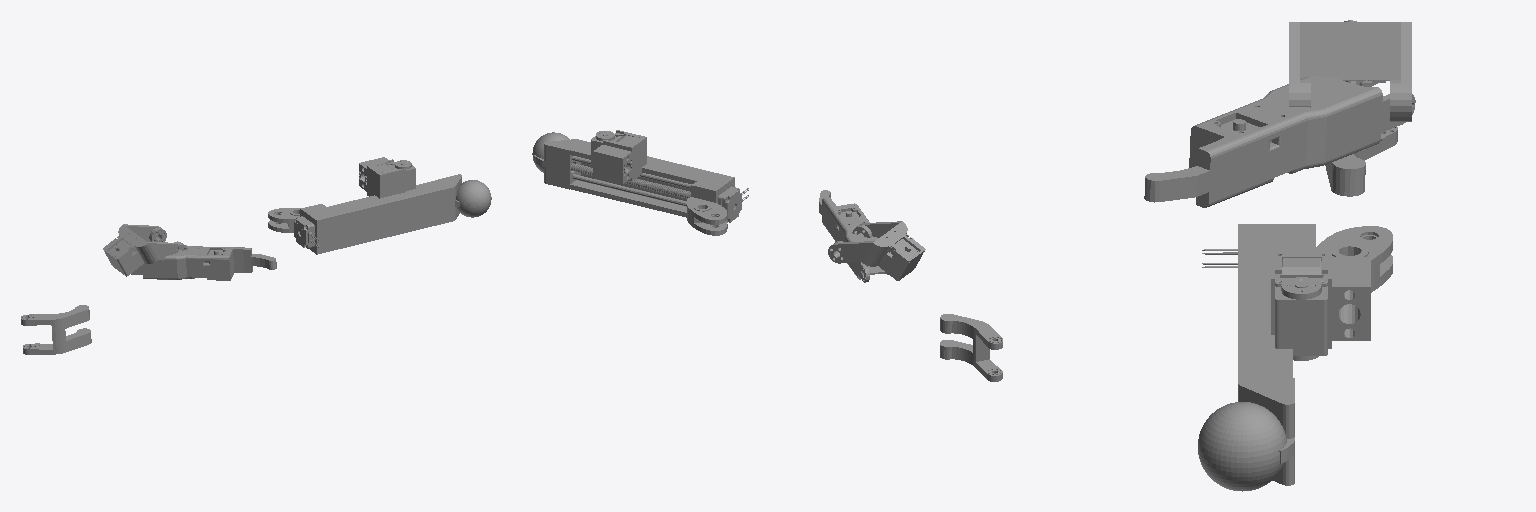
robot.urdf — leg_manipulator:
<?xml version="1.0" encoding="utf-8"?>
<!-- This URDF was automatically created by SolidWorks to URDF Exporter! Originally created by Stephen Brawner (brawner@gmail.com) 
     Commit Version: 1.6.0-4-g7f85cfe  Build Version: 1.6.7995.38578
     For more information, please see http://wiki.ros.org/sw_urdf_exporter -->
<robot
  name="leg_manipulator">
  <link
    name="base_link">
    <inertial>
      <origin
        xyz="-0.102101858263051 -1.23372200670387E-05 0.0495364959218269"
        rpy="0 0 0" />
      <mass
        value="0.228916745240302" />
      <inertia
        ixx="7.32933157890681E-05"
        ixy="-1.48577654516967E-07"
        ixz="7.21766471076414E-05"
        iyy="0.00061322332790674"
        iyz="2.15302205976865E-08"
        izz="0.000602631444620784" />
    </inertial>
    <visual>
      <origin
        xyz="0 0 0"
        rpy="0 0 0" />
      <geometry>
        <mesh
          filename="package://leg_manipulator/meshes/base_link.STL" />
      </geometry>
      <material
        name="">
        <color
          rgba="0.627450980392157 0.627450980392157 0.627450980392157 1" />
      </material>
    </visual>
    <collision>
      <origin
        xyz="0 0 0"
        rpy="0 0 0" />
      <geometry>
        <mesh
          filename="package://leg_manipulator/meshes/base_link.STL" />
      </geometry>
    </collision>
  </link>
  <link
    name="link1">
    <inertial>
      <origin
        xyz="-0.128815170246768 6.16693158052885E-05 0.0174844738870931"
        rpy="0 0 0" />
      <mass
        value="0.0589546671844344" />
      <inertia
        ixx="1.17826464867624E-05"
        ixy="1.13571487128267E-07"
        ixz="-7.96530718981461E-07"
        iyy="1.49514869427638E-05"
        iyz="-3.89603257061317E-08"
        izz="1.35226508650578E-05" />
    </inertial>
    <visual>
      <origin
        xyz="0 0 0"
        rpy="0 0 0" />
      <geometry>
        <mesh
          filename="package://leg_manipulator/meshes/link1.STL" />
      </geometry>
      <material
        name="">
        <color
          rgba="0.627450980392157 0.627450980392157 0.627450980392157 1" />
      </material>
    </visual>
    <collision>
      <origin
        xyz="0 0 0"
        rpy="0 0 0" />
      <geometry>
        <mesh
          filename="package://leg_manipulator/meshes/link1.STL" />
      </geometry>
    </collision>
  </link>
  <joint
    name="joint1"
    type="prismatic">
    <origin
      xyz="-0.022741 -5E-05 0.032"
      rpy="3.1416 0 0" />
    <parent
      link="base_link" />
    <child
      link="link1" />
    <axis
      xyz="-1 0 0" />
    <limit
      lower="0"
      upper="0.6"
      effort="100"
      velocity="1" />
  </joint>
  <link
    name="link2">
    <inertial>
      <origin
        xyz="-0.0412400600572213 0.0290000049963766 -0.00237297655194358"
        rpy="0 0 0" />
      <mass
        value="0.0492722298663148" />
      <inertia
        ixx="1.6171917803228E-05"
        ixy="-1.43810043193834E-13"
        ixz="-2.73606234561682E-07"
        iyy="1.49982082029405E-05"
        iyz="1.18466833635428E-13"
        izz="2.51424133329096E-05" />
    </inertial>
    <visual>
      <origin
        xyz="0 0 0"
        rpy="0 0 0" />
      <geometry>
        <mesh
          filename="package://leg_manipulator/meshes/link2.STL" />
      </geometry>
      <material
        name="">
        <color
          rgba="0.627450980392157 0.627450980392157 0.627450980392157 1" />
      </material>
    </visual>
    <collision>
      <origin
        xyz="0 0 0"
        rpy="0 0 0" />
      <geometry>
        <mesh
          filename="package://leg_manipulator/meshes/link2.STL" />
      </geometry>
    </collision>
  </link>
  <joint
    name="joint2"
    type="revolute">
    <origin
      xyz="-0.145982705510586 -0.0292000000000024 0.0227"
      rpy="0 0 0" />
    <parent
      link="link1" />
    <child
      link="link2" />
    <axis
      xyz="0 -1 0" />
    <limit
      lower="-3.14"
      upper="3.14"
      effort="100"
      velocity="1" />
  </joint>
  <link
    name="link3">
    <inertial>
      <origin
        xyz="-0.0875706443775528 0.0012980092080234 0.0260546304711824"
        rpy="0 0 0" />
      <mass
        value="0.111402715752738" />
      <inertia
        ixx="4.56339135238866E-05"
        ixy="1.77867913646447E-06"
        ixz="5.58509130634157E-05"
        iyy="0.000168660813444487"
        iyz="-8.191426226183E-07"
        izz="0.000137997912896648" />
    </inertial>
    <visual>
      <origin
        xyz="0 0 0"
        rpy="0 0 0" />
      <geometry>
        <mesh
          filename="package://leg_manipulator/meshes/link3.STL" />
      </geometry>
      <material
        name="">
        <color
          rgba="0.627450980392157 0.627450980392157 0.627450980392157 1" />
      </material>
    </visual>
    <collision>
      <origin
        xyz="0 0 0"
        rpy="0 0 0" />
      <geometry>
        <mesh
          filename="package://leg_manipulator/meshes/link3.STL" />
      </geometry>
    </collision>
  </link>
  <joint
    name="joint3"
    type="revolute">
    <origin
      xyz="-0.050675 0.029 0.017145"
      rpy="0 0 0" />
    <parent
      link="link2" />
    <child
      link="link3" />
    <axis
      xyz="0.46021 0 0.88781" />
    <limit
      lower="-3.14"
      upper="3.14"
      effort="100"
      velocity="1" />
  </joint>
  <link
    name="link4">
    <inertial>
      <origin
        xyz="-0.0320231399899398 0.0188395340678356 0.0196130289979088"
        rpy="0 0 0" />
      <mass
        value="0.0268787641612815" />
      <inertia
        ixx="2.60267203023457E-06"
        ixy="1.49718719392197E-07"
        ixz="2.82922055894807E-06"
        iyy="1.15913002533176E-05"
        iyz="-4.94293134081021E-08"
        izz="1.03912131946971E-05" />
    </inertial>
    <visual>
      <origin
        xyz="0 0 0"
        rpy="0 0 0" />
      <geometry>
        <mesh
          filename="package://leg_manipulator/meshes/link4.STL" />
      </geometry>
      <material
        name="">
        <color
          rgba="0.627450980392157 0.627450980392157 0.627450980392157 1" />
      </material>
    </visual>
    <collision>
      <origin
        xyz="0 0 0"
        rpy="0 0 0" />
      <geometry>
        <mesh
          filename="package://leg_manipulator/meshes/link4.STL" />
      </geometry>
    </collision>
  </link>
  <joint
    name="joint4"
    type="revolute">
    <origin
      xyz="-0.12194 -0.015927 0.044362"
      rpy="0 0 0" />
    <parent
      link="link3" />
    <child
      link="link4" />
    <axis
      xyz="0.014315 0.99987 -0.0074203" />
    <limit
      lower="-3.14"
      upper="3.14"
      effort="100"
      velocity="1" />
  </joint>
</robot>

--- Render facts (derived) ---
Views: 3 orthographic renders of the robot side by side, from view 1: azimuth 30°, elevation 25°; view 2: azimuth 150°, elevation 25°; view 3: azimuth 270°, elevation 25°.
Model leg_manipulator with 5 links and 4 joints (3 revolute, 1 prismatic), rooted at base_link, posed all joints at 0.
Visible links, largest first — view 1: base_link, link3, link2, link4, link1; view 2: base_link, link2, link4, link1, link3; view 3: base_link, link3, link1, link2, link4.
Boxes of the visible links, x1,y1,x2,y2 form: base_link: (268, 174, 491, 254); link3: (131, 245, 276, 280); link2: (103, 224, 187, 276); link4: (21, 305, 91, 354); link1: (359, 157, 415, 198); base_link: (532, 132, 748, 235); link2: (828, 221, 925, 280); link4: (940, 314, 1002, 381); link1: (591, 130, 646, 183); link3: (819, 190, 888, 282); base_link: (1198, 224, 1392, 491); link3: (1144, 76, 1415, 207); link1: (1271, 249, 1370, 360); link2: (1289, 20, 1411, 121); link4: (1325, 83, 1397, 196).
Size in the robot's own frame: 0.5692 by 0.1283 by 0.1423 metres.
5 mesh visuals loaded from 5 distinct referenced files (5 binary STL).
